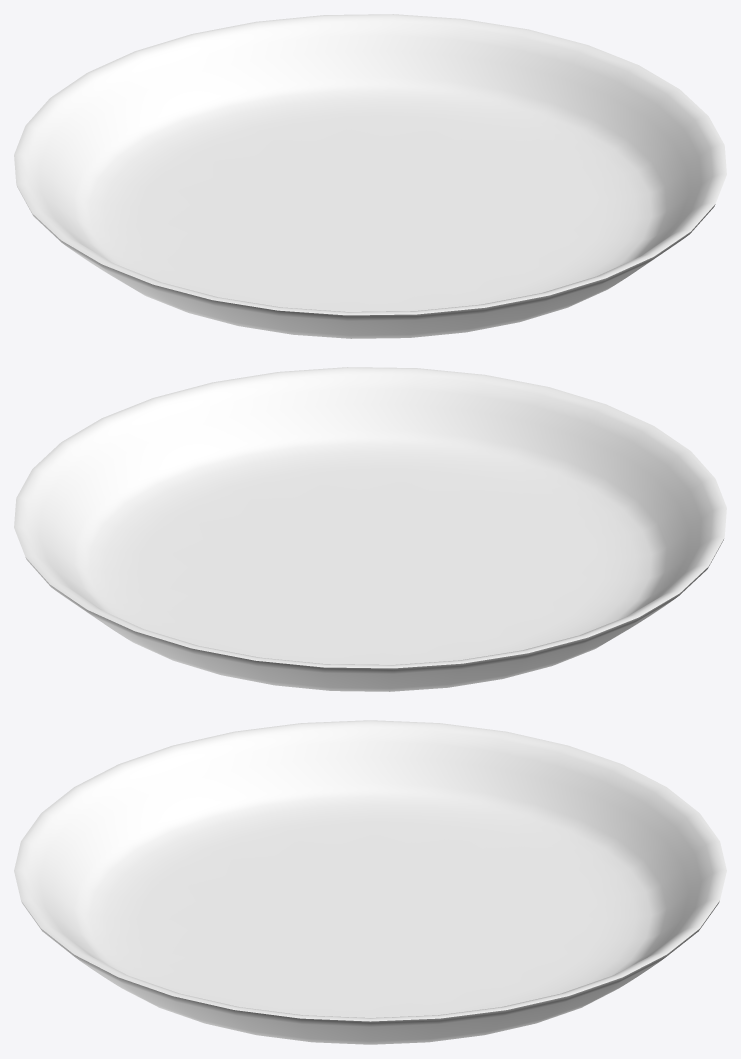
Rendered from HP_plate.obj.
3 renders of one model, top to bottom at view 1: azimuth 30°, elevation 25°; view 2: azimuth 150°, elevation 25°; view 3: azimuth 270°, elevation 25°, orthographic.
Parts seen in each view (by area): view 1: HP_plate.001; view 2: HP_plate.001; view 3: HP_plate.001.
Part boxes in pixels (box(x1,y1,x2,y2)): HP_plate.001: box(14, 14, 726, 338); HP_plate.001: box(14, 367, 726, 691); HP_plate.001: box(14, 720, 726, 1044).
Size of the model in its own units: 0.1551 by 0.0131 by 0.1551.
